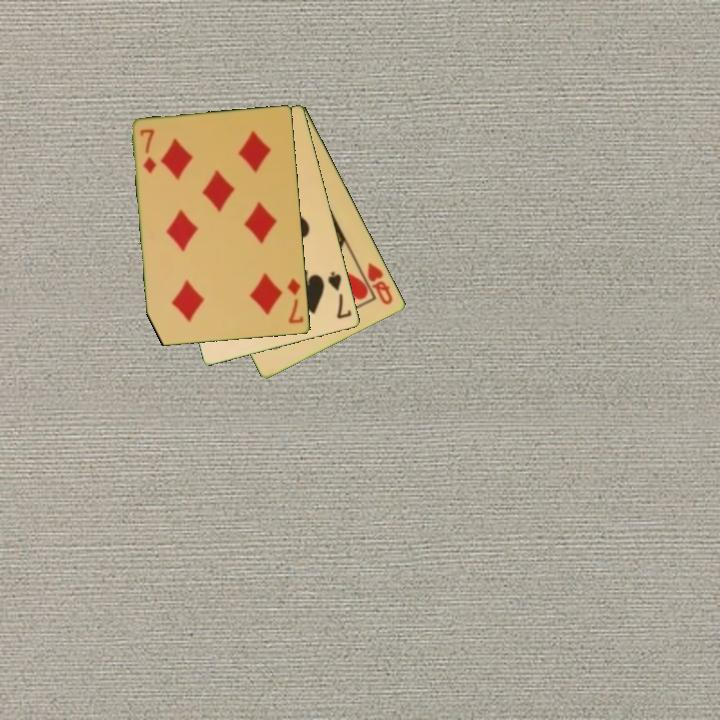7d: (284, 275, 307, 327), (137, 126, 160, 176)
7s: (325, 268, 355, 322)
Qh: (364, 259, 396, 308)
